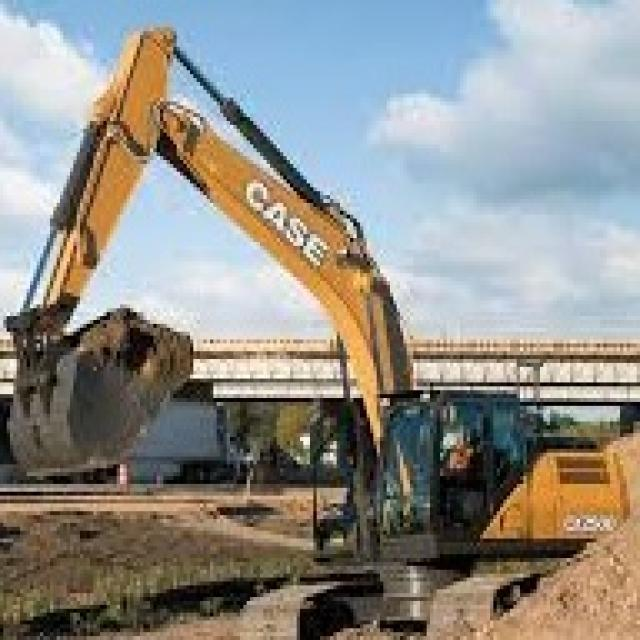excavator: (280, 367, 632, 636)
